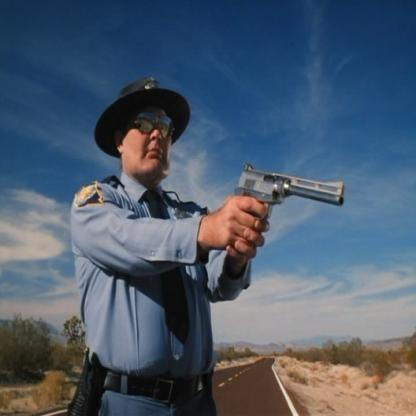gun: (230, 142, 355, 273)
